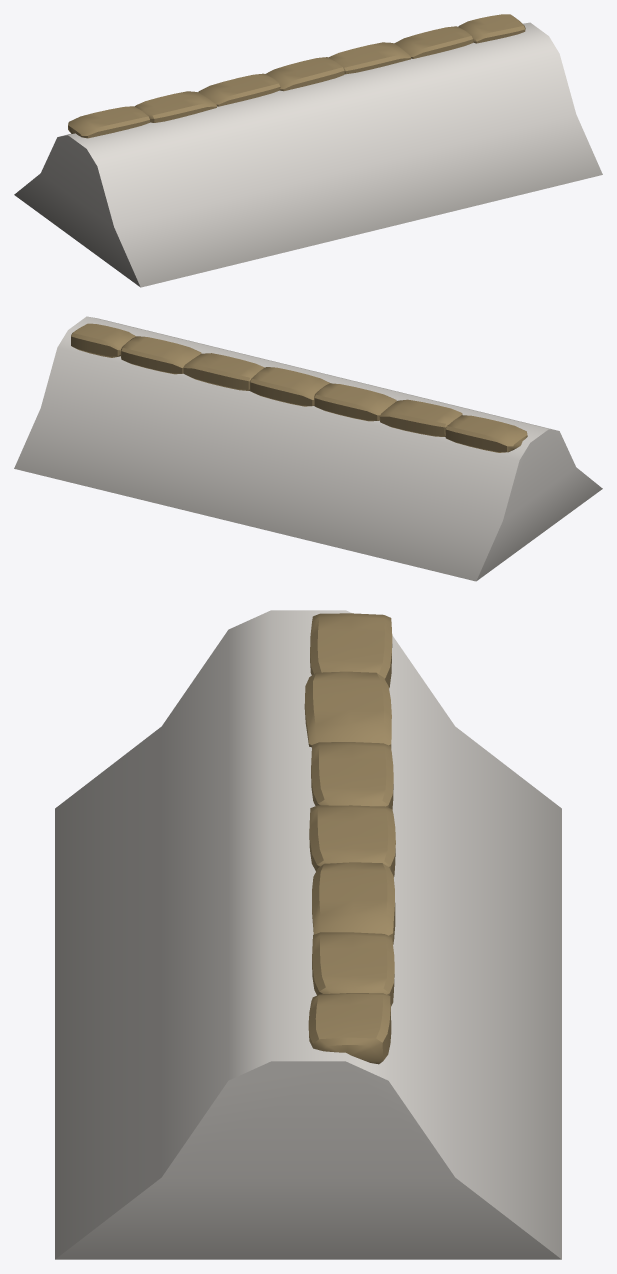
Rendered from earth_berm.glb.
3 renders of one model, top to bottom at view 1: azimuth 30°, elevation 25°; view 2: azimuth 150°, elevation 25°; view 3: azimuth 270°, elevation 25°, orthographic. The views are drawn at different scales.
Visible parts, largest first — view 1: earth_berm_LOD0; view 2: earth_berm_LOD0; view 3: earth_berm_LOD0.
Boxes of the visible parts, bbox=[...] form: earth_berm_LOD0: bbox=[14, 14, 602, 287]; earth_berm_LOD0: bbox=[14, 316, 602, 581]; earth_berm_LOD0: bbox=[55, 610, 561, 1259].
Size of what is drawn, in the model's own units: 4 by 0.8818 by 1.9.
